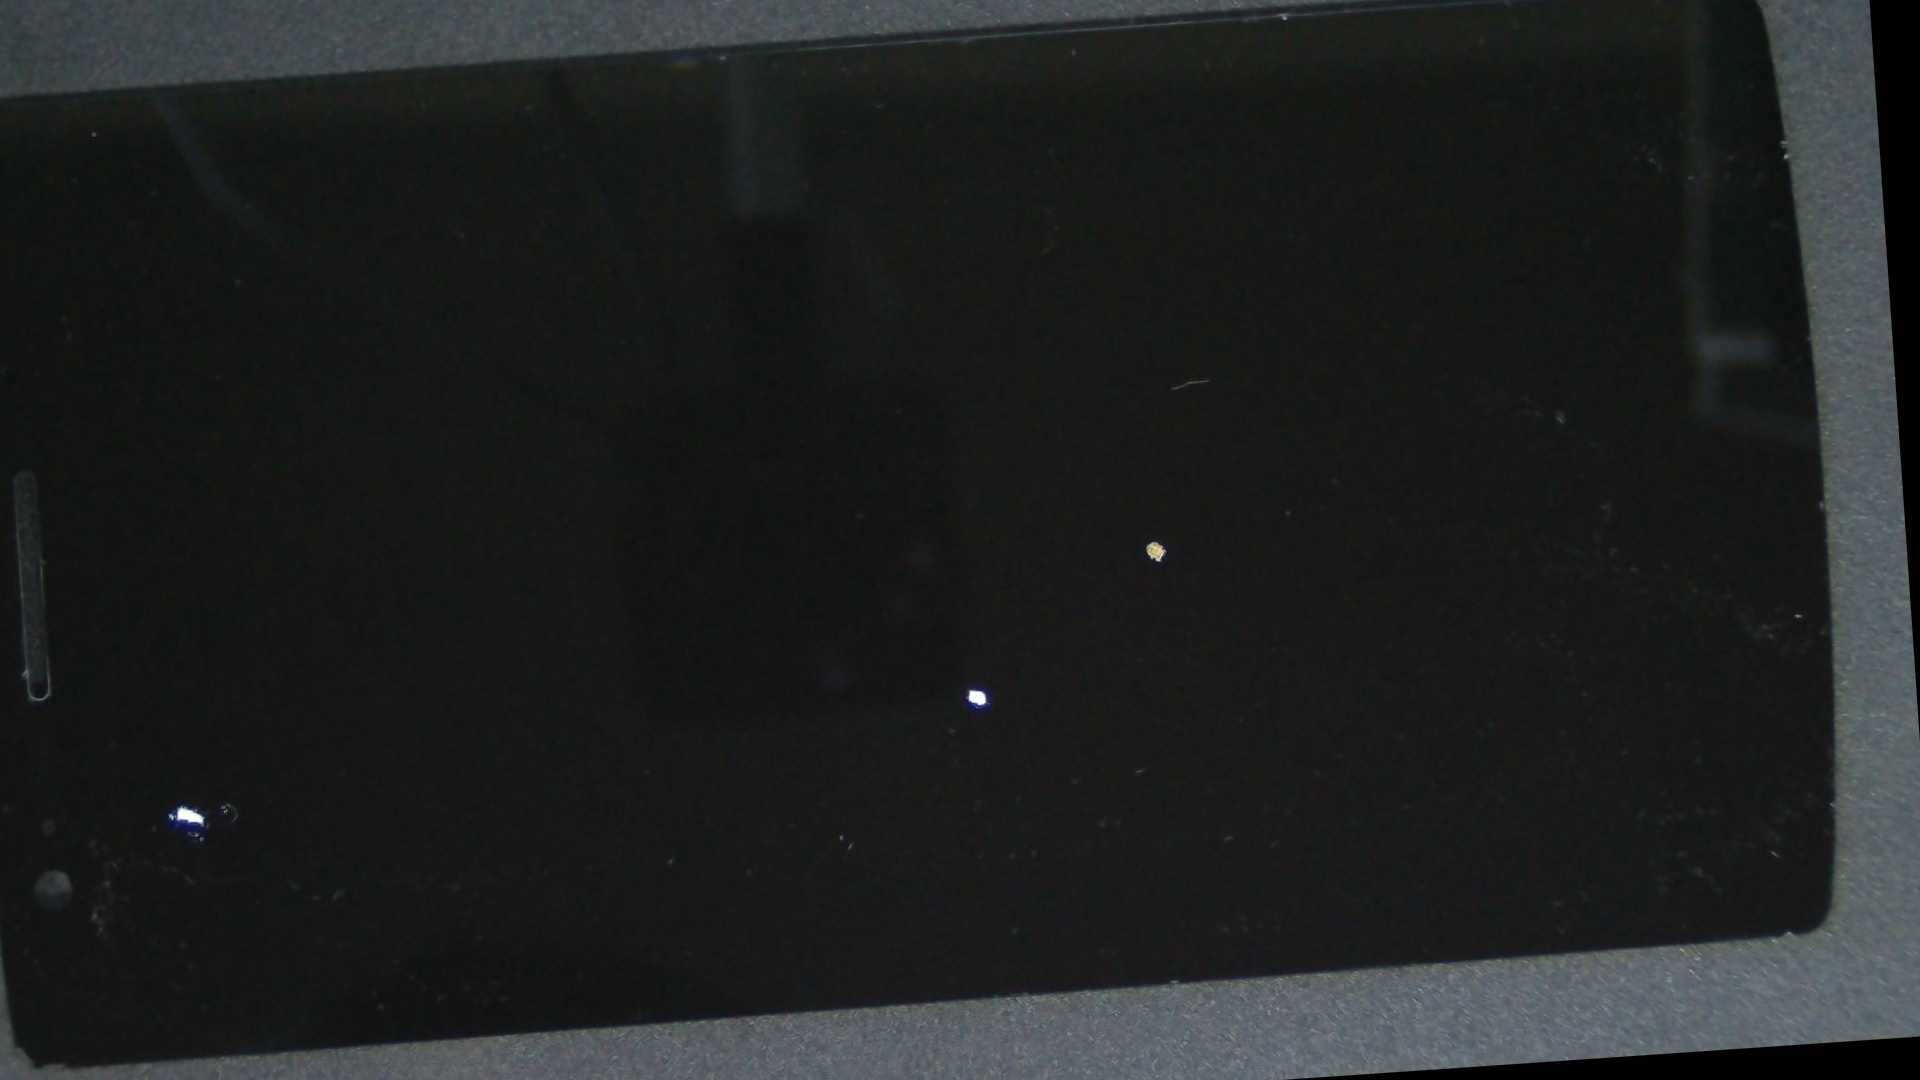oil: (479, 166, 1824, 909), (385, 252, 1544, 1080), (0, 367, 371, 1080)
